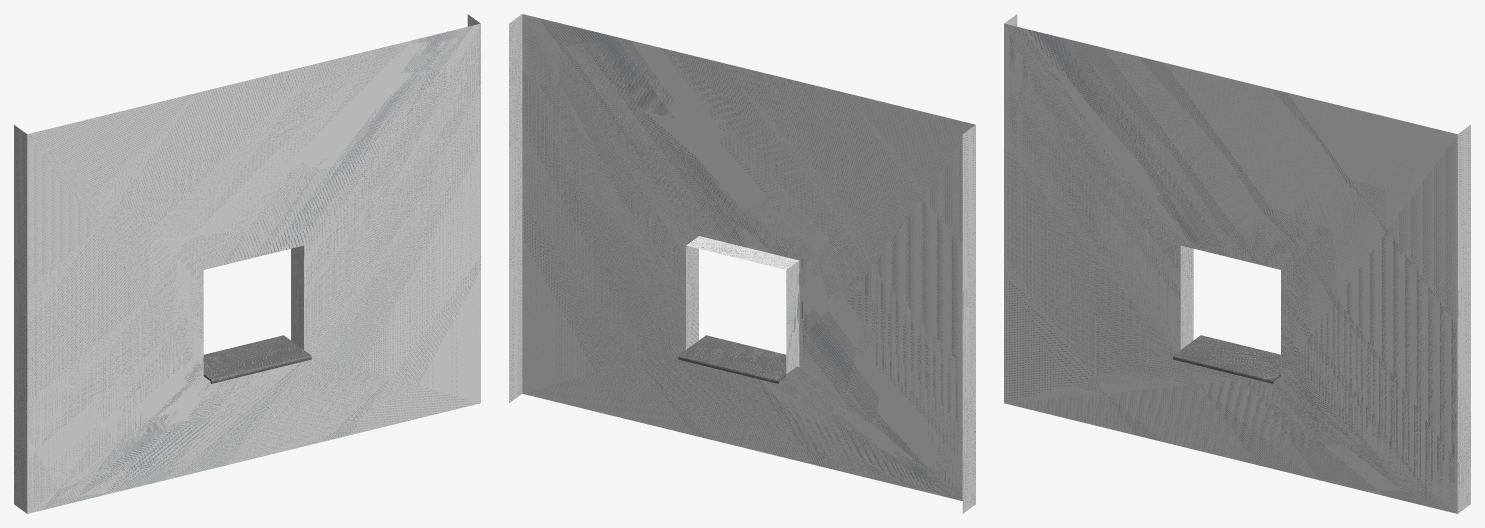
Rendered from BlockWall_Sluise_os_[500x400x025]_112x110x[100].dae.
3 renders of one model, left to right at view 1: azimuth 30°, elevation 25°; view 2: azimuth 150°, elevation 25°; view 3: azimuth 330°, elevation 25°, orthographic.
Parts seen in each view (by area): view 1: group_0 (×3); view 2: group_0 (×3); view 3: group_0 (×3).
Boxes of the visible parts, box(x1,y1,x2,y2) form: group_0 (×3): box(14, 14, 480, 513); group_0 (×3): box(509, 14, 975, 513); group_0 (×3): box(1004, 14, 1470, 513).
Bounding box in the file's own units: 197 × 21.65 × 157.
